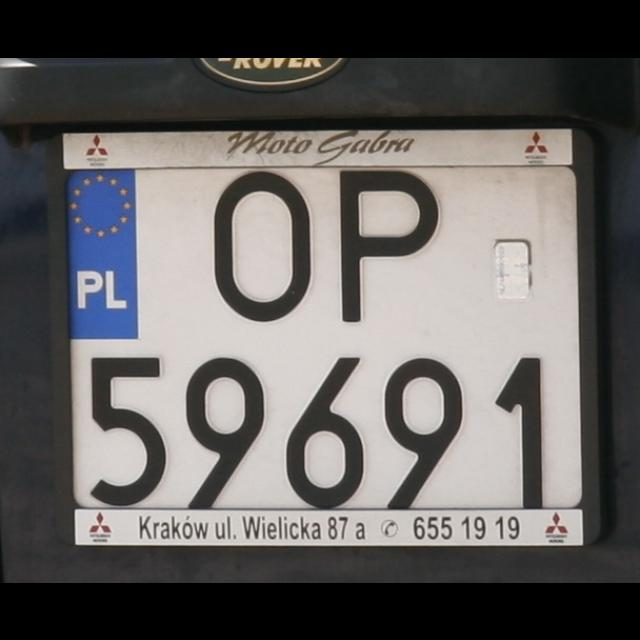pl_license_plate: (64, 165, 582, 507)
